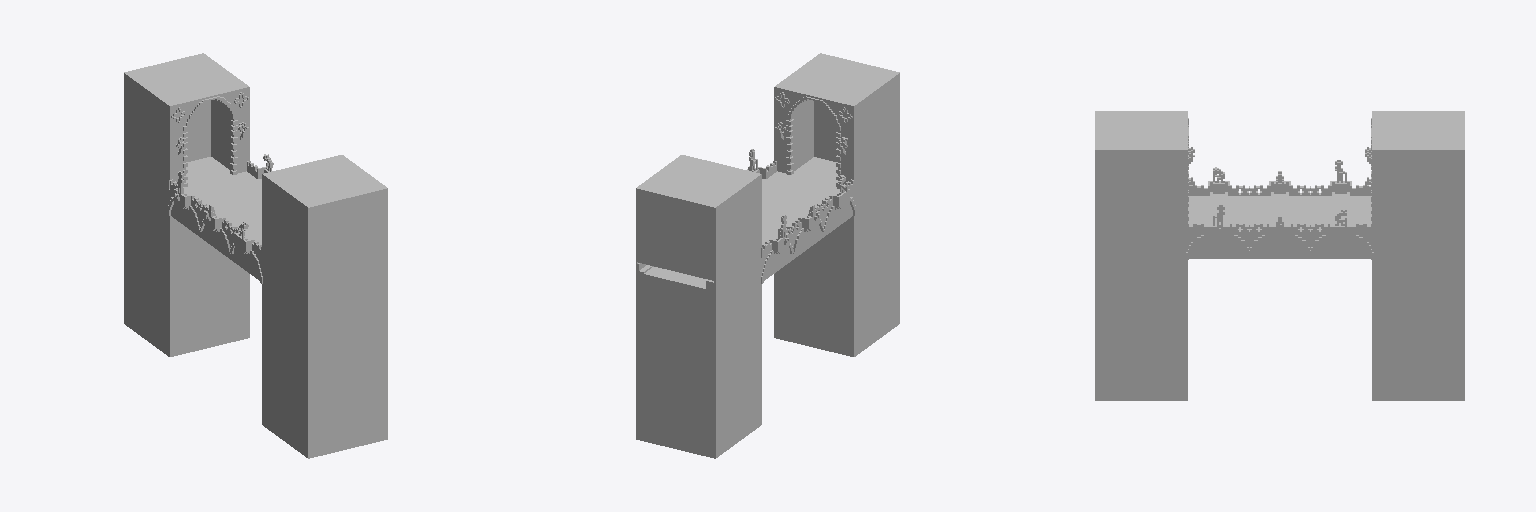
File: most.obj
3 renders of one model, left to right at view 1: azimuth 30°, elevation 25°; view 2: azimuth 150°, elevation 25°; view 3: azimuth 270°, elevation 25°, orthographic.
Visible parts, largest first — view 1: object 1; view 2: object 1; view 3: object 1.
Boxes of the visible parts, x1,y1,x2,y2 form: object 1: [124, 53, 387, 458]; object 1: [636, 53, 899, 458]; object 1: [1095, 111, 1464, 400].
Size of the model in its own units: 6.4 by 15 by 20.